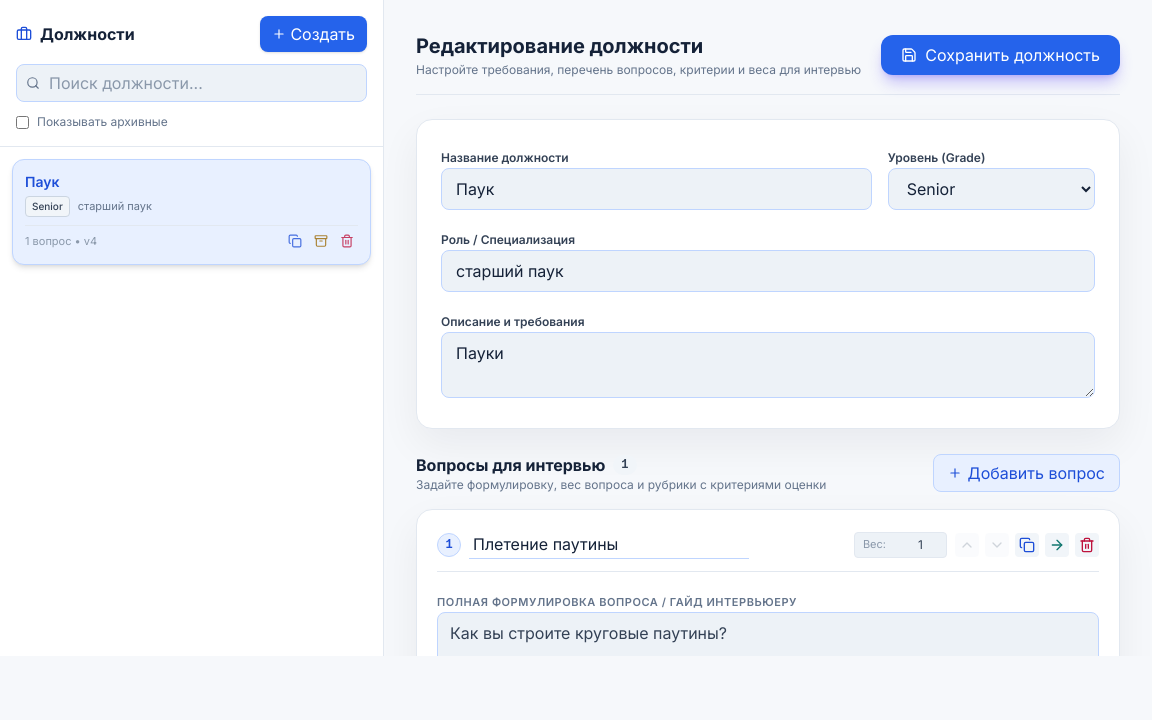
Test case: JobTemplatesScreen Component › deletes job template when confirmed in modal
Check: the heading "Редактирование должности" is shown, box [416,34,703,58]
Note: Click trash button
Click the button titled "Удалить должность" at {"x": 347, "y": 241}, box [336,230,358,252]
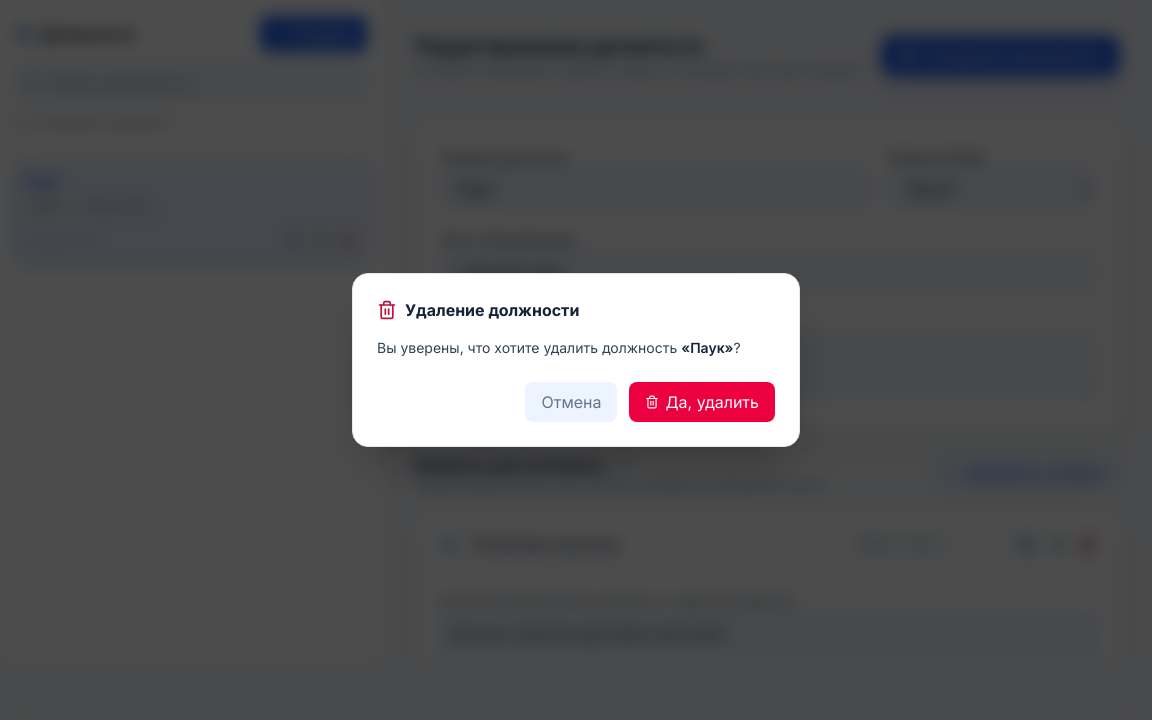
Check: the text "Удаление должности" is shown, box [405,298,579,322]
Note: Click "Да, удалить"
Click the button "Да, удалить" at {"x": 702, "y": 402}, box [629,382,775,422]
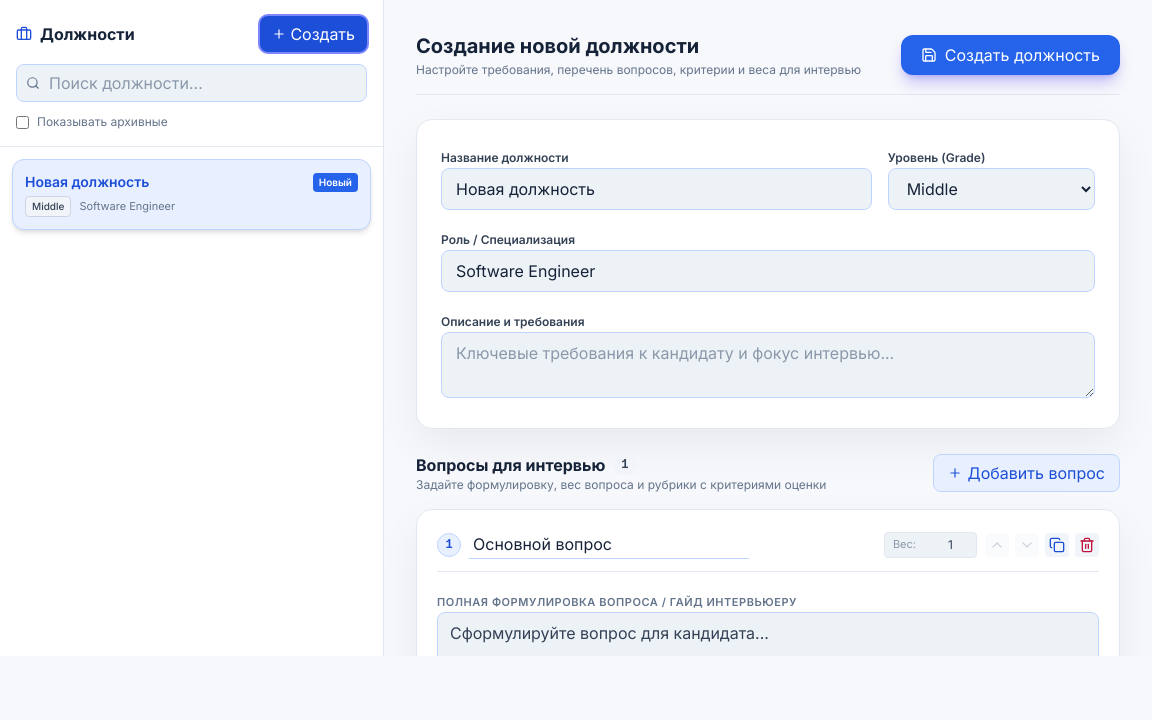
Check: the text "Удаление должности" is gone
Check: the heading "Создание новой должности" is shown, box [416,34,699,58]
